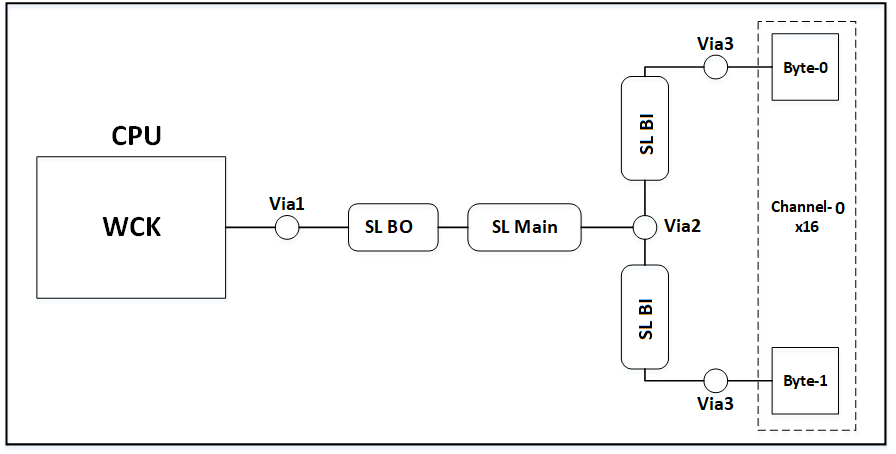circle: (699, 55, 733, 82), (271, 216, 303, 241), (703, 367, 730, 393), (630, 215, 658, 239)
dotted_rectangle: (755, 20, 858, 434)
oval: (466, 201, 584, 250), (619, 263, 670, 371), (345, 202, 441, 253)
rectangle: (34, 153, 229, 304), (771, 32, 842, 103), (770, 345, 840, 415)
